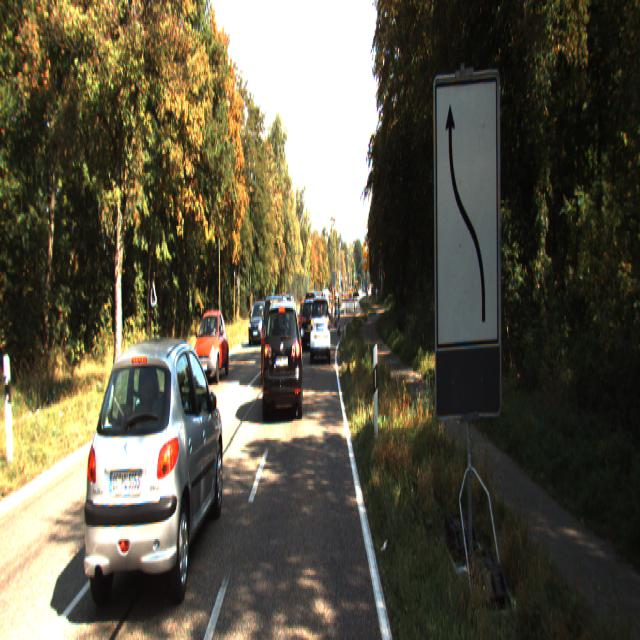Car: (82, 325, 224, 618), (262, 296, 303, 418), (260, 293, 292, 382), (193, 308, 229, 383), (311, 292, 330, 358)
